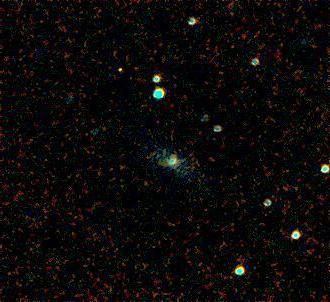star: (107, 56, 137, 86)
